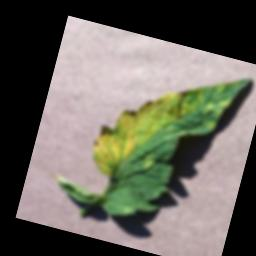Leaf_Mold: (86, 51, 236, 201)
